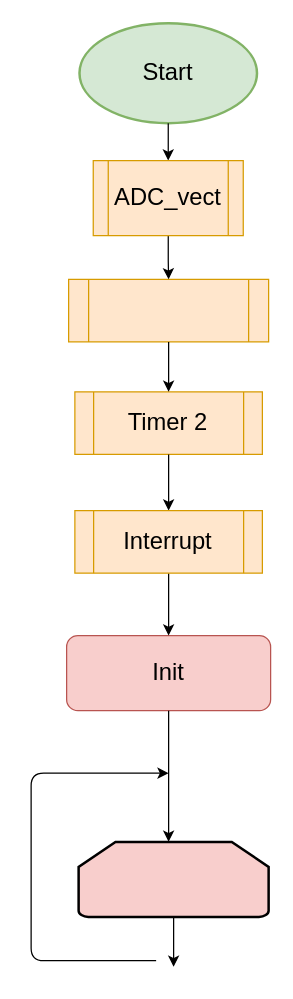
This 293x999 diagram has some shape labels left out. The shapes that lost their labels are listed below. From the top down, each one's centre as x and y in pixels, then its label:
At (168,310): "Timer 1".
At (173,879): "super loop".
